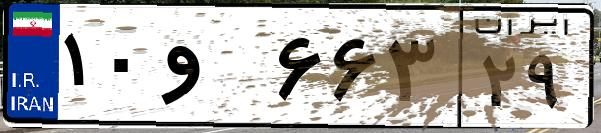0: (110, 28, 158, 98)
1: (57, 26, 110, 100)
2: (475, 38, 525, 113)
3: (385, 28, 445, 110)
6: (270, 28, 330, 110), (330, 28, 385, 110)
9: (525, 38, 570, 115)
و: (158, 20, 270, 120)
